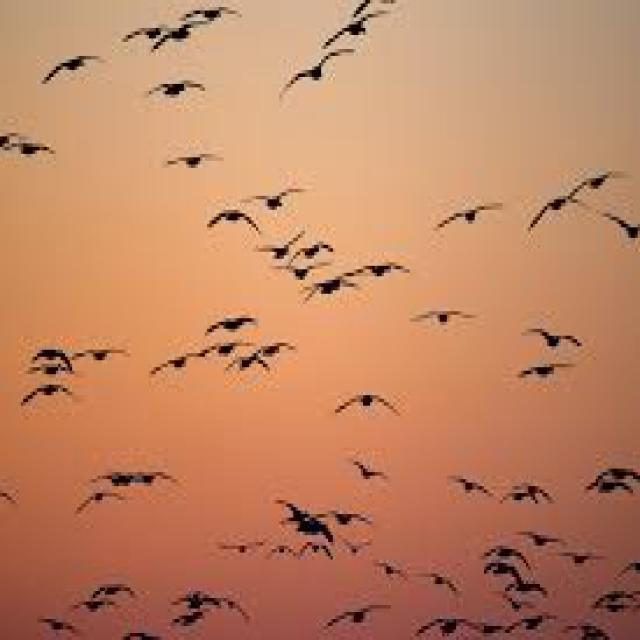bird: (265, 36, 363, 106), (29, 44, 122, 100), (518, 190, 578, 247), (120, 22, 185, 68), (293, 220, 361, 262), (2, 143, 74, 182), (436, 189, 502, 231), (328, 383, 398, 421), (253, 216, 313, 260), (314, 10, 396, 42), (11, 352, 88, 386), (315, 600, 392, 632), (572, 161, 628, 203), (74, 481, 124, 526), (278, 488, 325, 534), (512, 356, 588, 384), (21, 383, 93, 411), (410, 304, 480, 332), (186, 0, 240, 35), (600, 212, 640, 258), (411, 612, 483, 637), (448, 469, 495, 507), (588, 582, 640, 616), (509, 474, 564, 506), (134, 346, 196, 374), (69, 336, 120, 370), (23, 332, 77, 364), (521, 325, 589, 350), (143, 78, 208, 104), (88, 577, 154, 602), (319, 506, 377, 534), (171, 146, 220, 178), (316, 278, 364, 310), (348, 455, 388, 493), (203, 202, 260, 228), (161, 17, 207, 49), (560, 540, 606, 572), (279, 256, 328, 286), (582, 482, 638, 508), (38, 612, 90, 640), (355, 248, 413, 273), (502, 612, 560, 637), (252, 180, 308, 205), (212, 532, 268, 556), (421, 568, 463, 600), (502, 572, 544, 604), (478, 561, 518, 593), (202, 311, 270, 329), (216, 588, 254, 620), (76, 592, 113, 624), (372, 558, 408, 590), (483, 546, 539, 566), (519, 526, 563, 551), (297, 540, 341, 565), (132, 463, 174, 488), (593, 468, 640, 489), (255, 336, 306, 354), (272, 535, 294, 574), (171, 603, 204, 628), (236, 358, 274, 379), (198, 344, 258, 354)
